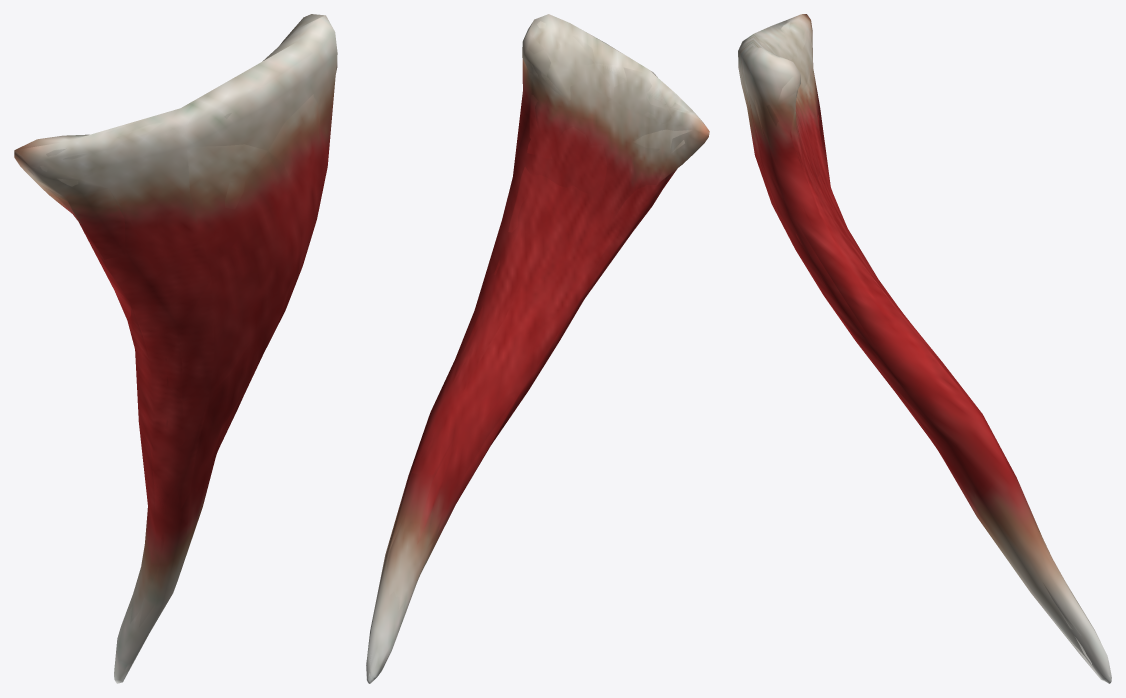
The model's file is L Cleidobrachialis.fbx.
The picture shows the model from 3 angles, left to right: view 1: azimuth 30°, elevation 25°; view 2: azimuth 150°, elevation 25°; view 3: azimuth 270°, elevation 25°; orthographic projection. The views are drawn at different scales.
Parts seen in each view (by area): view 1: L Cleidobrachialis, L Cleidobrachialis low, L Cleidobrachialis high; view 2: L Cleidobrachialis, L Cleidobrachialis high, L Cleidobrachialis low; view 3: L Cleidobrachialis, L Cleidobrachialis low, L Cleidobrachialis high.
Boxes of the visible parts, box(x1,y1,x2,y2) form: L Cleidobrachialis: box(14, 14, 337, 683); L Cleidobrachialis low: box(15, 17, 335, 675); L Cleidobrachialis high: box(27, 18, 323, 627); L Cleidobrachialis: box(366, 14, 709, 683); L Cleidobrachialis high: box(368, 21, 691, 680); L Cleidobrachialis low: box(369, 15, 708, 674); L Cleidobrachialis: box(738, 14, 1111, 683); L Cleidobrachialis low: box(738, 14, 1099, 677); L Cleidobrachialis high: box(752, 21, 1109, 682).
Bounding box in the file's own units: 2.89 × 7.17 × 3.9.
